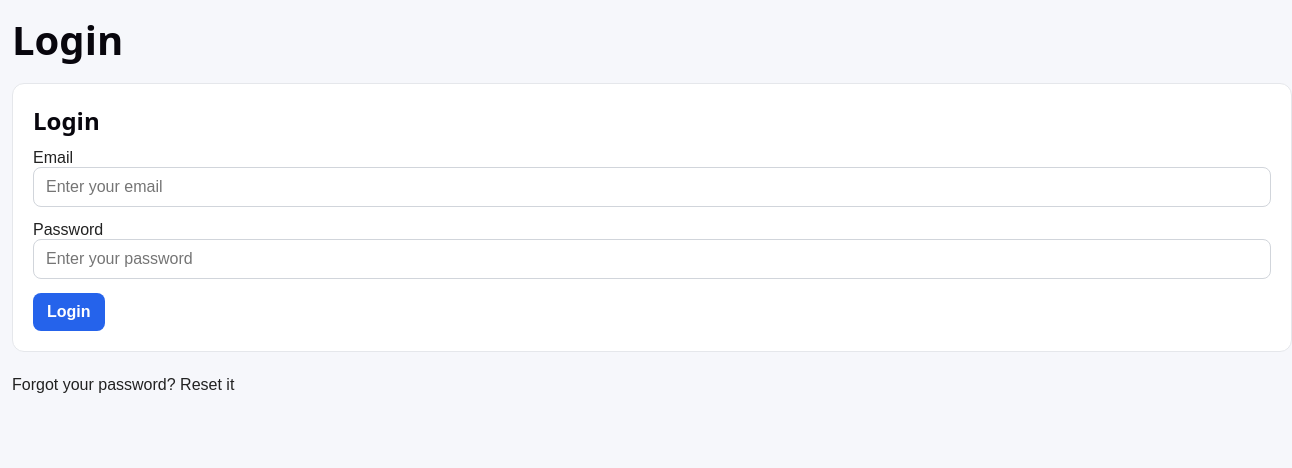
Test case: LoginPage › shows error message when login fails
Type "wrong@example.com" into the field labelled "Email".
click(652, 187); type("wrong@example.com")  # box [33,167,1271,207]
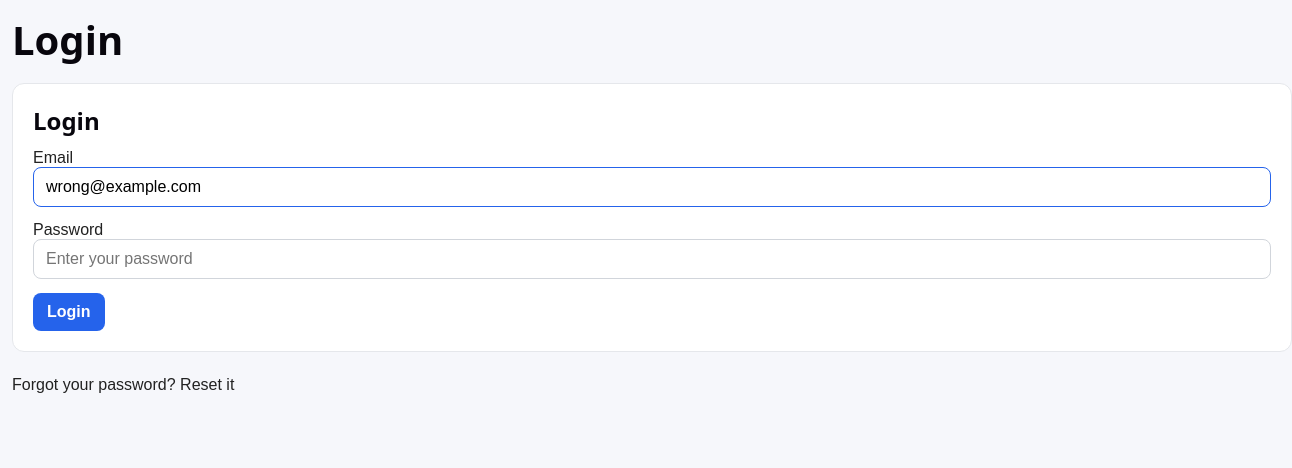
Type "wrongpassword" into the password field labelled "Password".
click(652, 259); type("wrongpassword")  # box [33,239,1271,279]
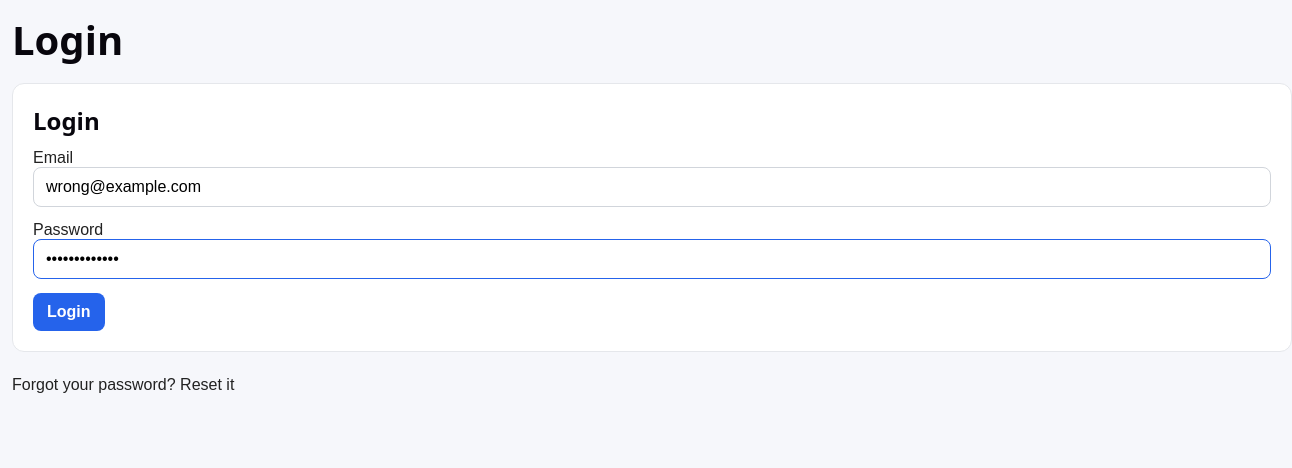
Click the button "Login".
click(69, 312)  # box [33,293,104,331]
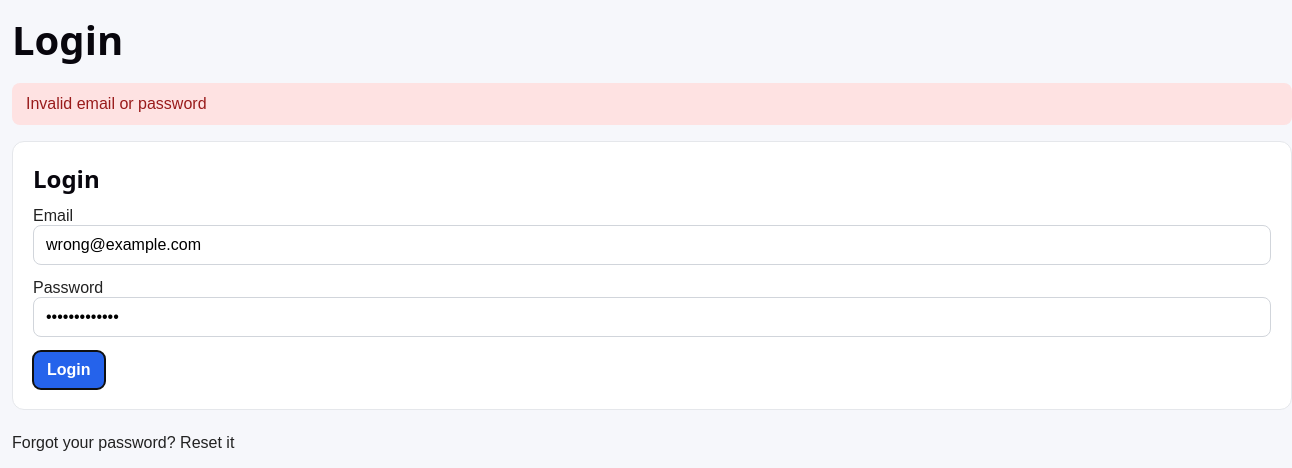
Expected: the text "Invalid email or password" is shown, [26,95,206,112]
